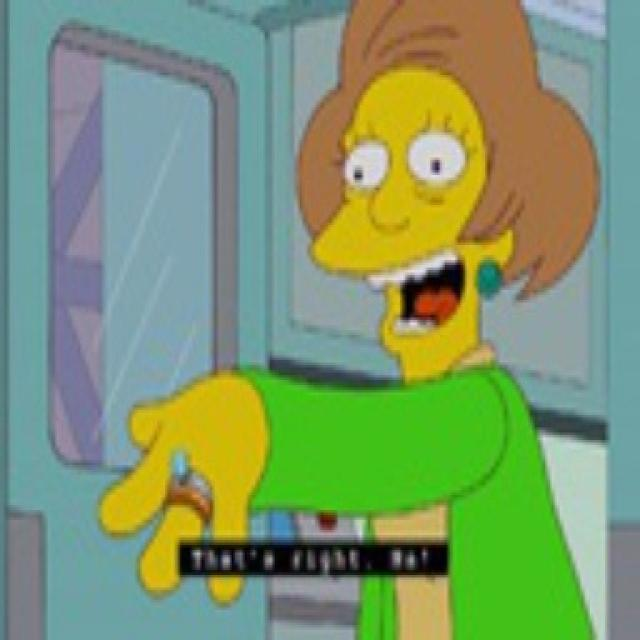Edna Krappel: (291, 0, 602, 385)
